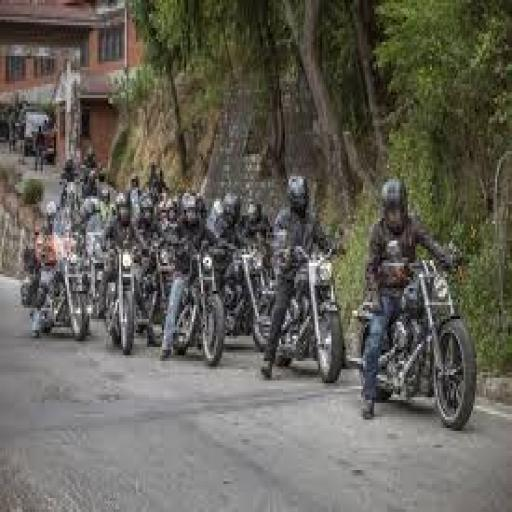helmet: (378, 174, 408, 232)
overloading: (19, 148, 480, 431)
